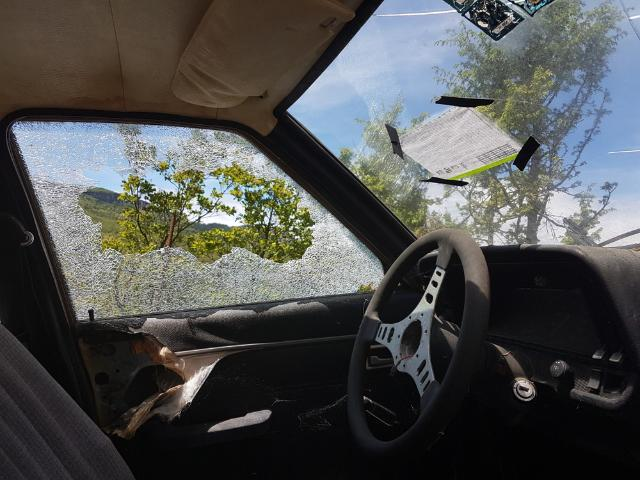glass shatter: (10, 121, 385, 321)
